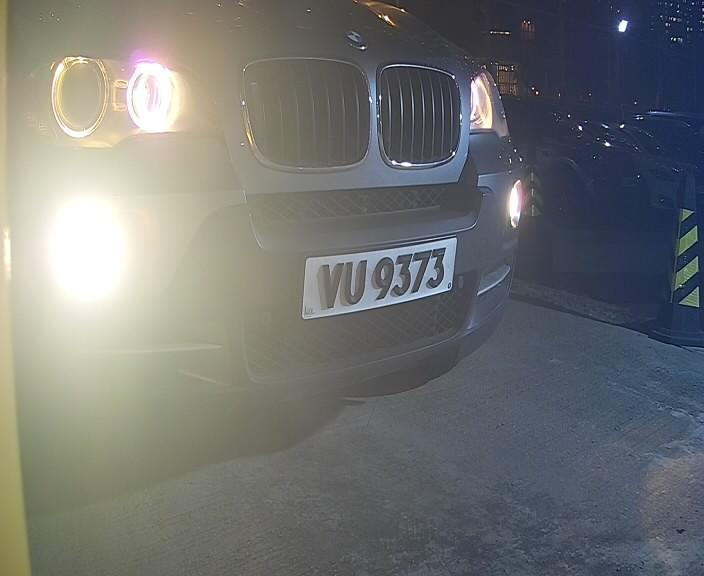License Plate: (290, 229, 466, 322)
